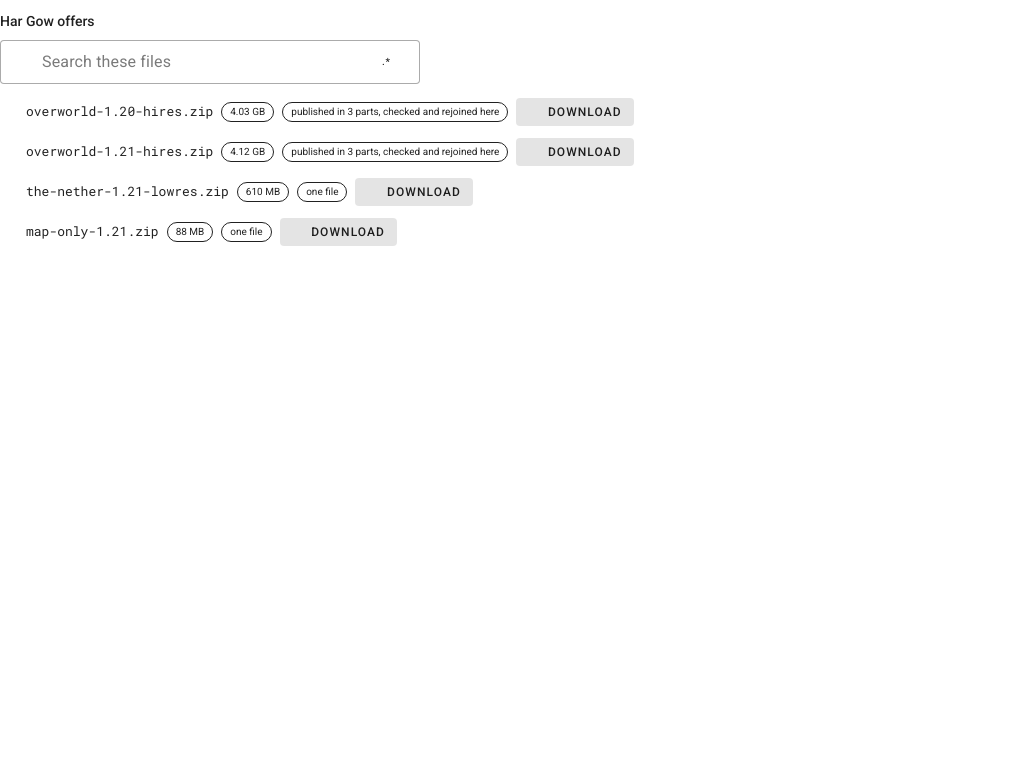
Scenario: the builder, opened from this field › gives focus back to the field it belongs to when it closes
This screenshot has width=1024, height=768.
Click the button named "Open the regex builder".
click(386, 62)  # box [364,40,408,84]
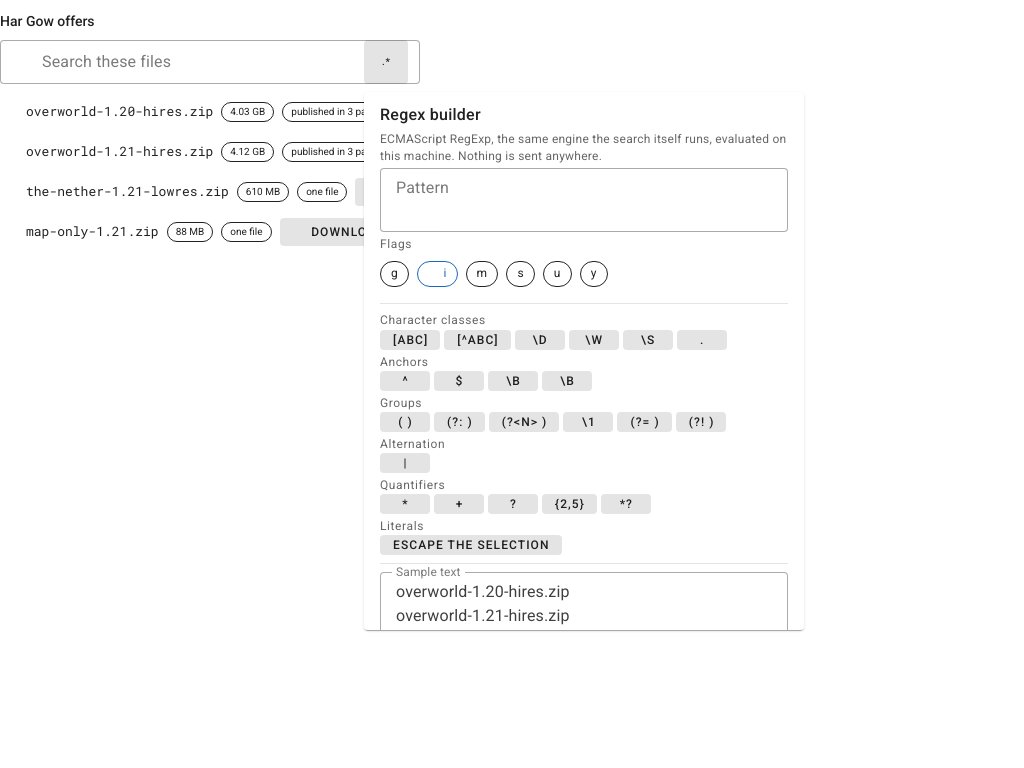
Click the button named "Open the regex builder".
click(386, 62)  # box [364,40,408,84]
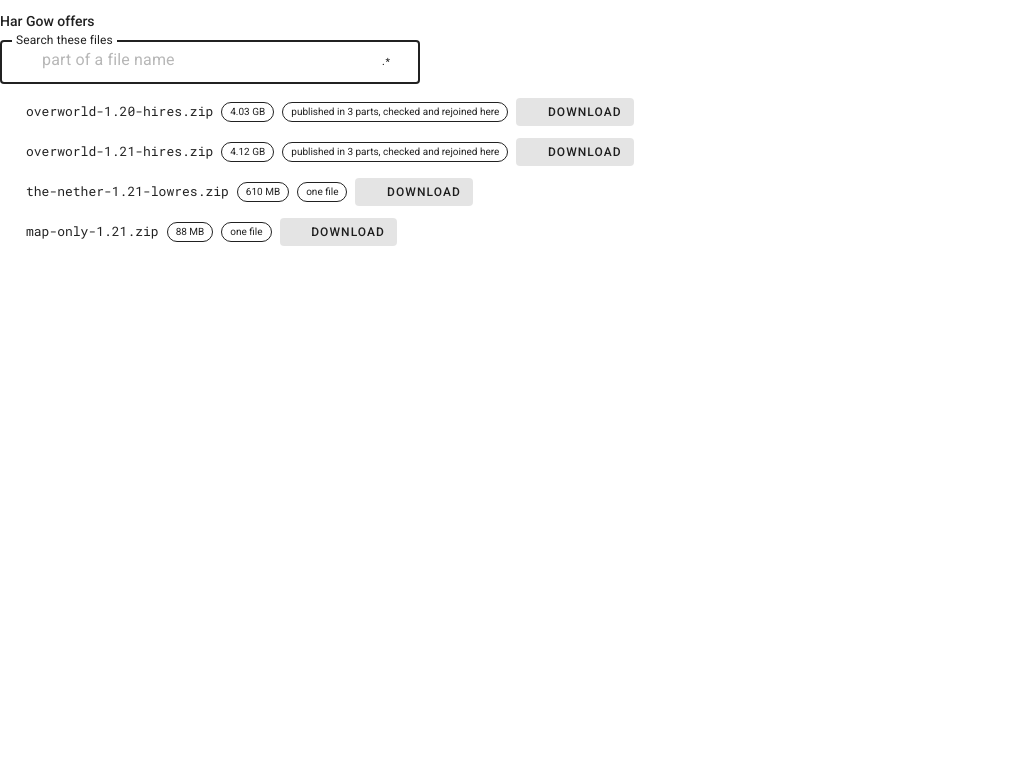
Now the button named "Open the regex builder" is collapsed, box [364,40,408,84]
